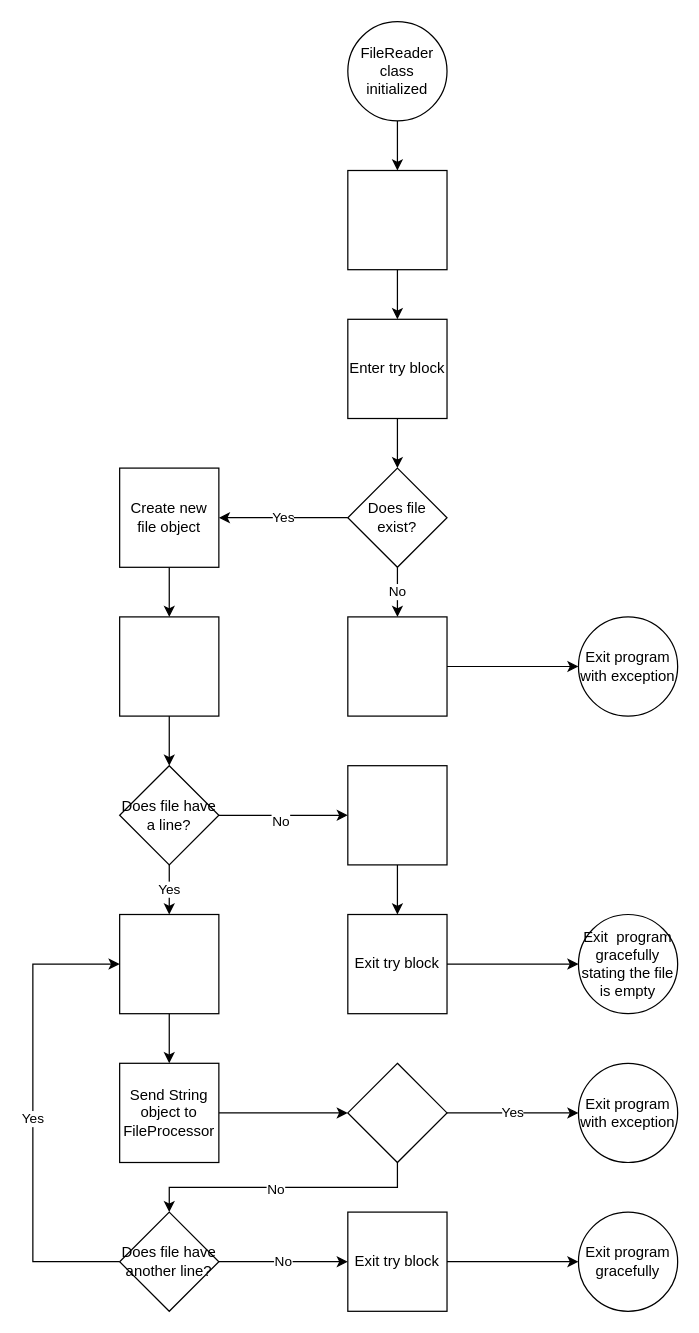
Image size: 699x1333. Some labels were removed from this diagram. Each missing label, with the centre of its shape:
Close Buffered Reader: point 397,814
Create Buffered Reader: point 168,666
Enter Catch block: point 397,666
Exception occurred?: point 397,1112
readFile method is called: point 397,219
Store line in String object: point 168,963
